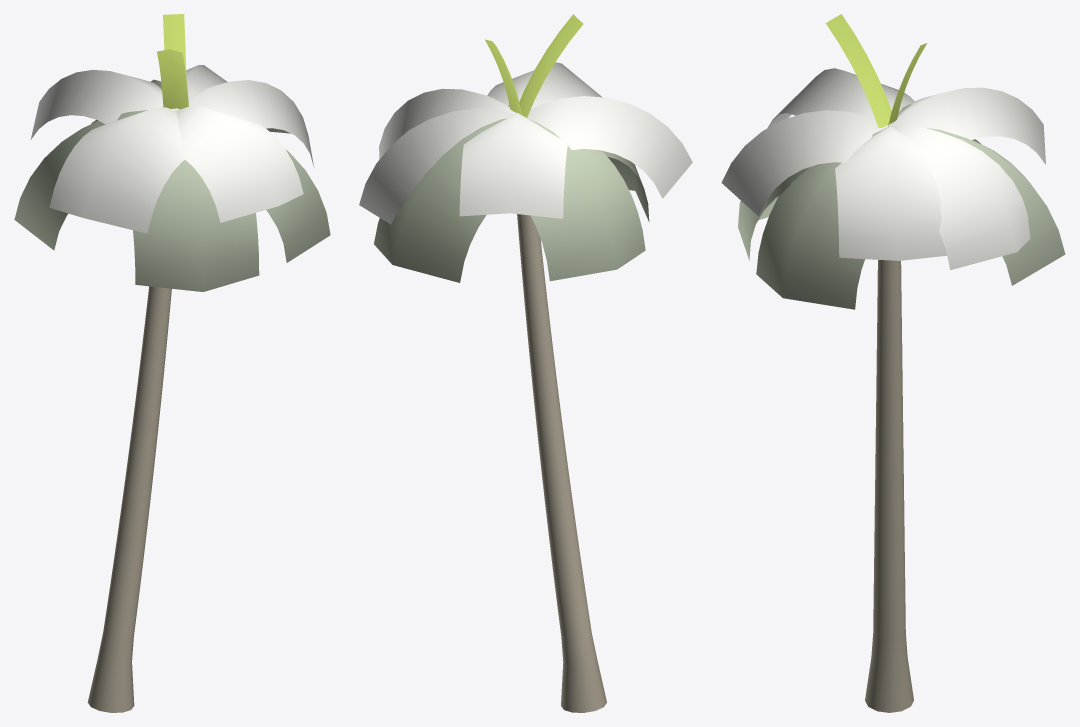
File: plant_palm_5.glb
3 renders of one model, left to right at view 1: azimuth 30°, elevation 25°; view 2: azimuth 150°, elevation 25°; view 3: azimuth 270°, elevation 25°, orthographic. The views are drawn at different scales.
Parts seen in each view (by area): view 1: plant_palm_5; view 2: plant_palm_5; view 3: plant_palm_5.
Part boxes in pixels (x1=…): plant_palm_5: x1=14, y1=14, x2=330, y2=712; plant_palm_5: x1=359, y1=14, x2=692, y2=712; plant_palm_5: x1=721, y1=14, x2=1065, y2=712.
Size of the model in its own units: 5.66 by 13.24 by 5.88.
